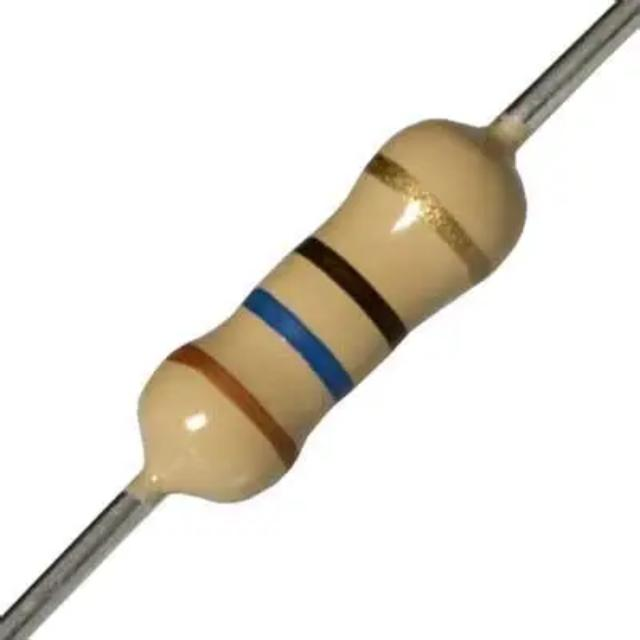black: (291, 235, 411, 350)
blue: (243, 284, 358, 403)
brown: (165, 340, 304, 470)
gold: (366, 152, 499, 286)
resistor: (65, 40, 602, 574)
